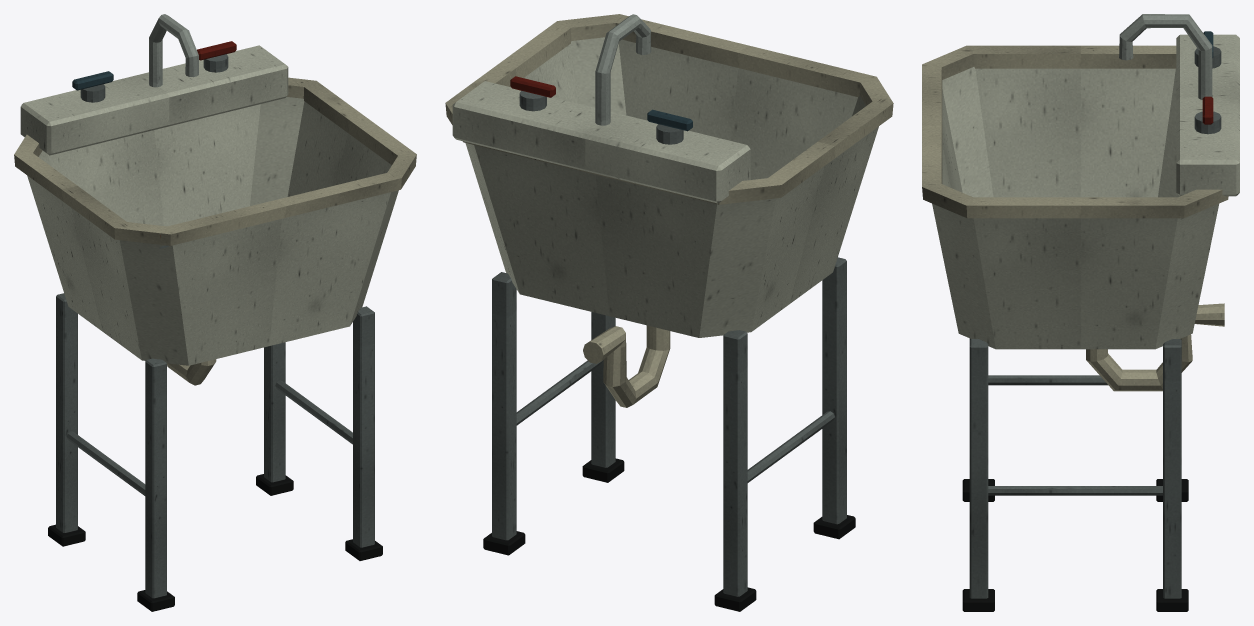
Rendered from deep_utility_sink.glb.
The picture shows the model from 3 angles, left to right: view 1: azimuth 30°, elevation 25°; view 2: azimuth 150°, elevation 25°; view 3: azimuth 270°, elevation 25°; orthographic projection. The views are drawn at different scales.
Parts seen in each view (by area): view 1: deep_utility_sink; view 2: deep_utility_sink; view 3: deep_utility_sink.
Part boxes in pixels (x1,y1,x2,y2): deep_utility_sink: (14, 14, 416, 611); deep_utility_sink: (445, 14, 893, 611); deep_utility_sink: (922, 14, 1239, 611).
Bounding box in the file's own units: 0.713 × 1.11 × 0.598.
10 materials, 10 textured.
